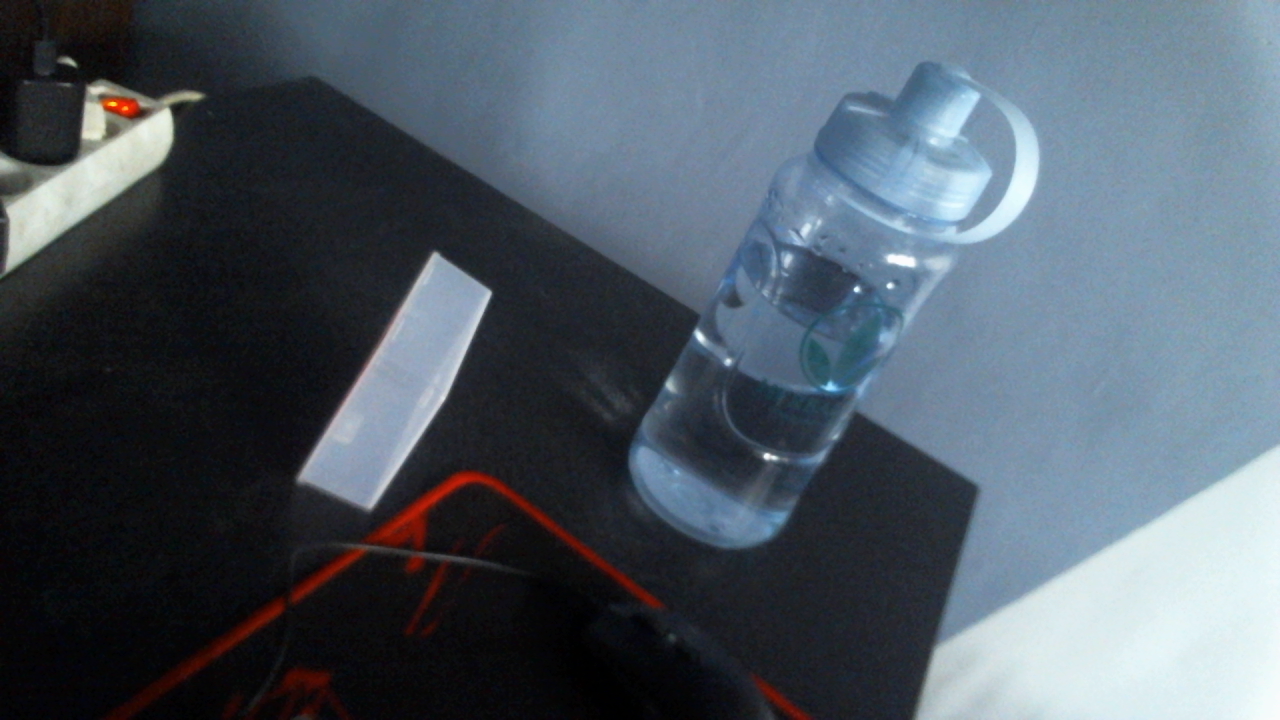Selection: (263, 226, 528, 546)
